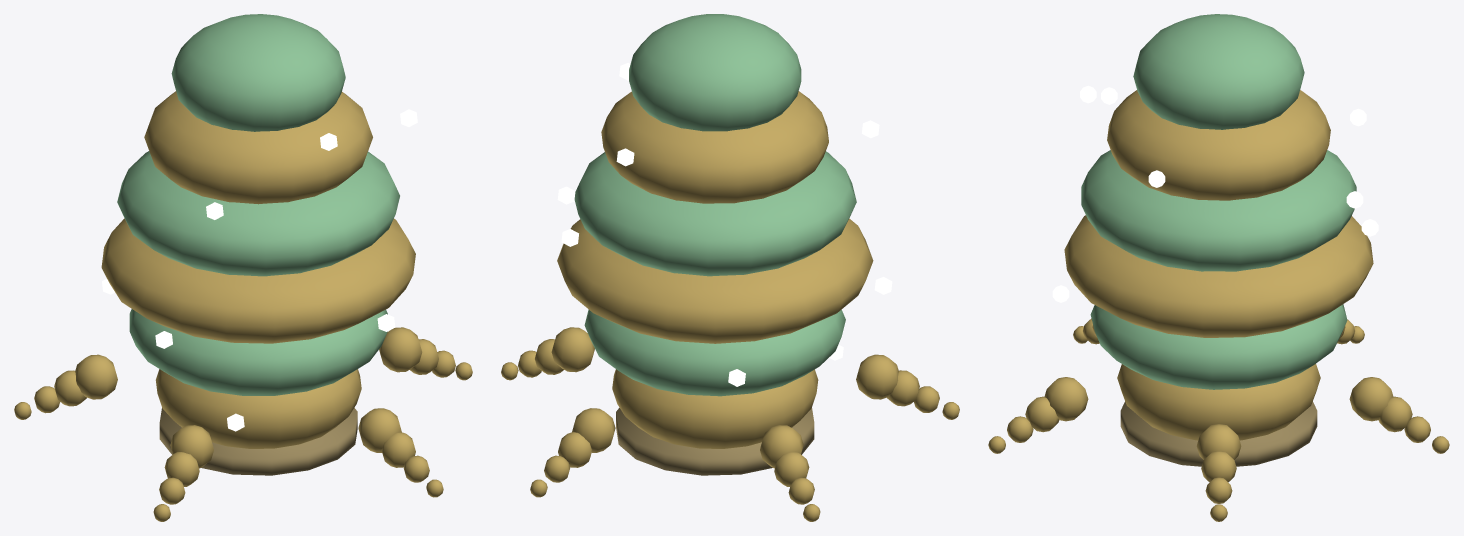
Rendered from egg_forest_05.glb.
3 renders of one model, left to right at view 1: azimuth 30°, elevation 25°; view 2: azimuth 150°, elevation 25°; view 3: azimuth 270°, elevation 25°, orthographic.
Visible parts, largest first — view 1: ball; view 2: ball; view 3: ball.
Part boxes in pixels (x1,y1,x2,y2): ball: (14,14,472,521); ball: (501,14,959,521); ball: (988,14,1449,521).
Bounding box in the file's own units: 0.9843 × 0.99 × 1.03.
